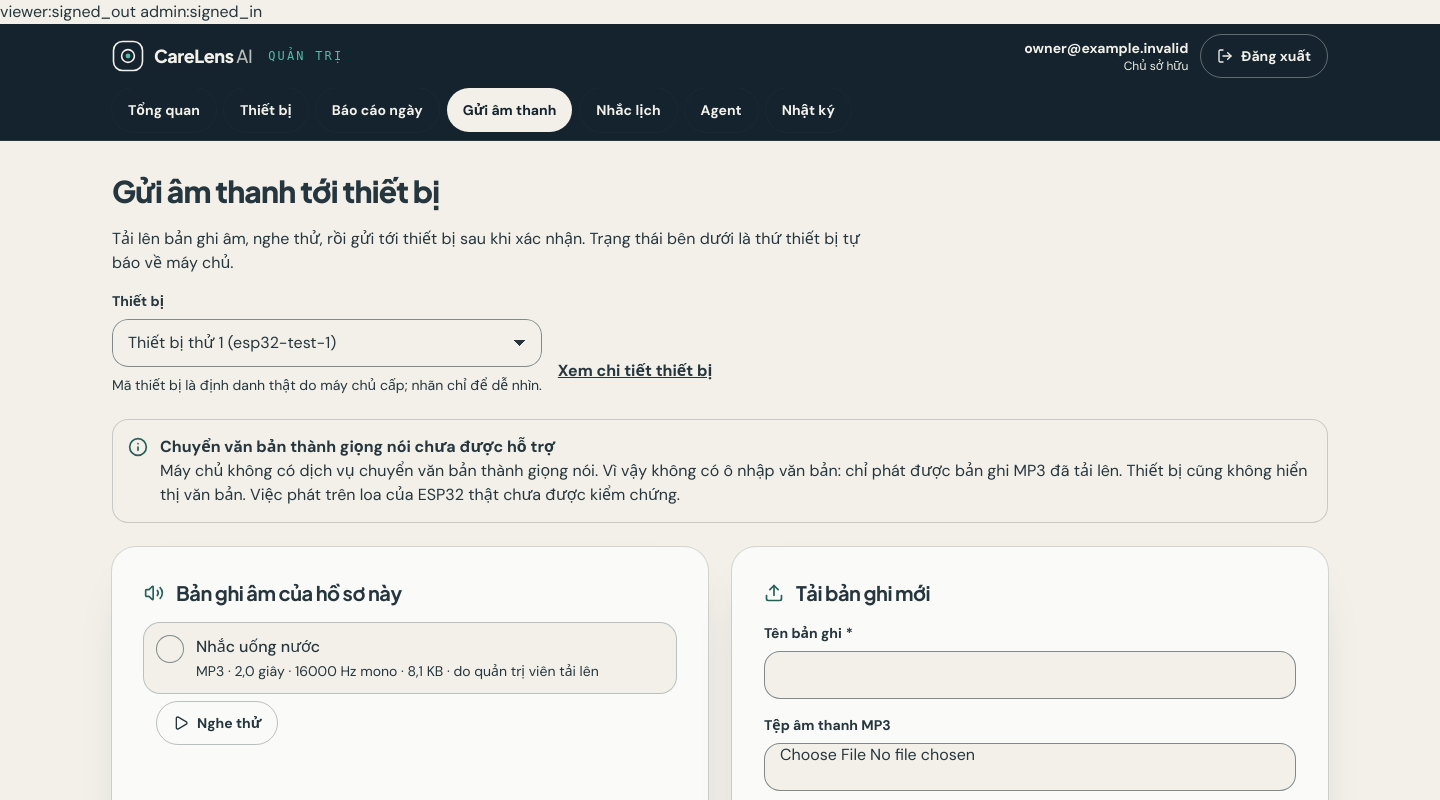
Scenario: audio messages › sends nothing until the final confirmation, then sends exactly one command with the confirm flag and an idempotency key
Step 1. Click the radio button labelled "Nhắc uống nước" → x=258, y=646, box top-left (144, 622), bottom-right (676, 692)
(page scrolled)
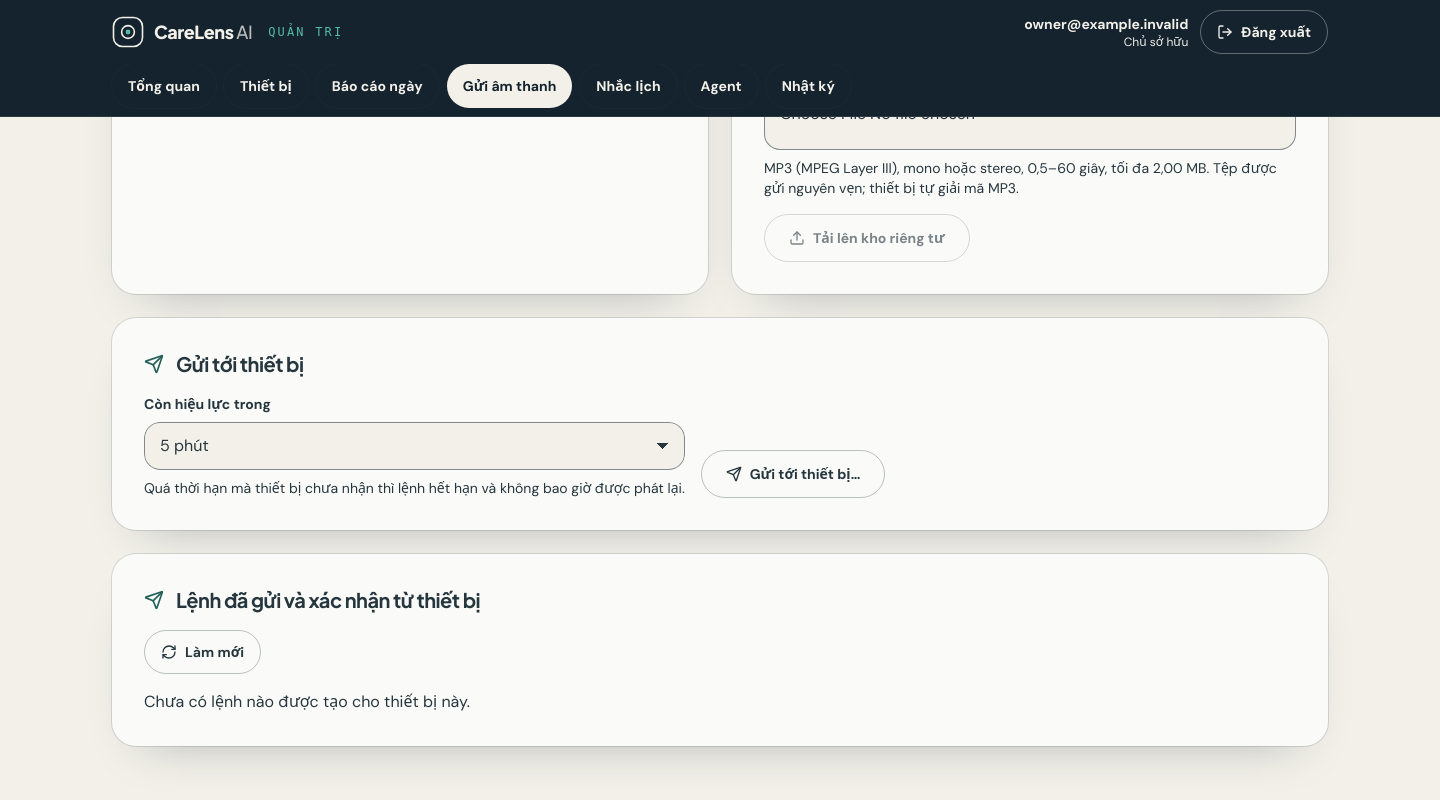
Step 2. Select "15 phút" in the dropdown labelled "Còn hiệu lực trong" → x=414, y=446, box top-left (144, 422), bottom-right (685, 470)
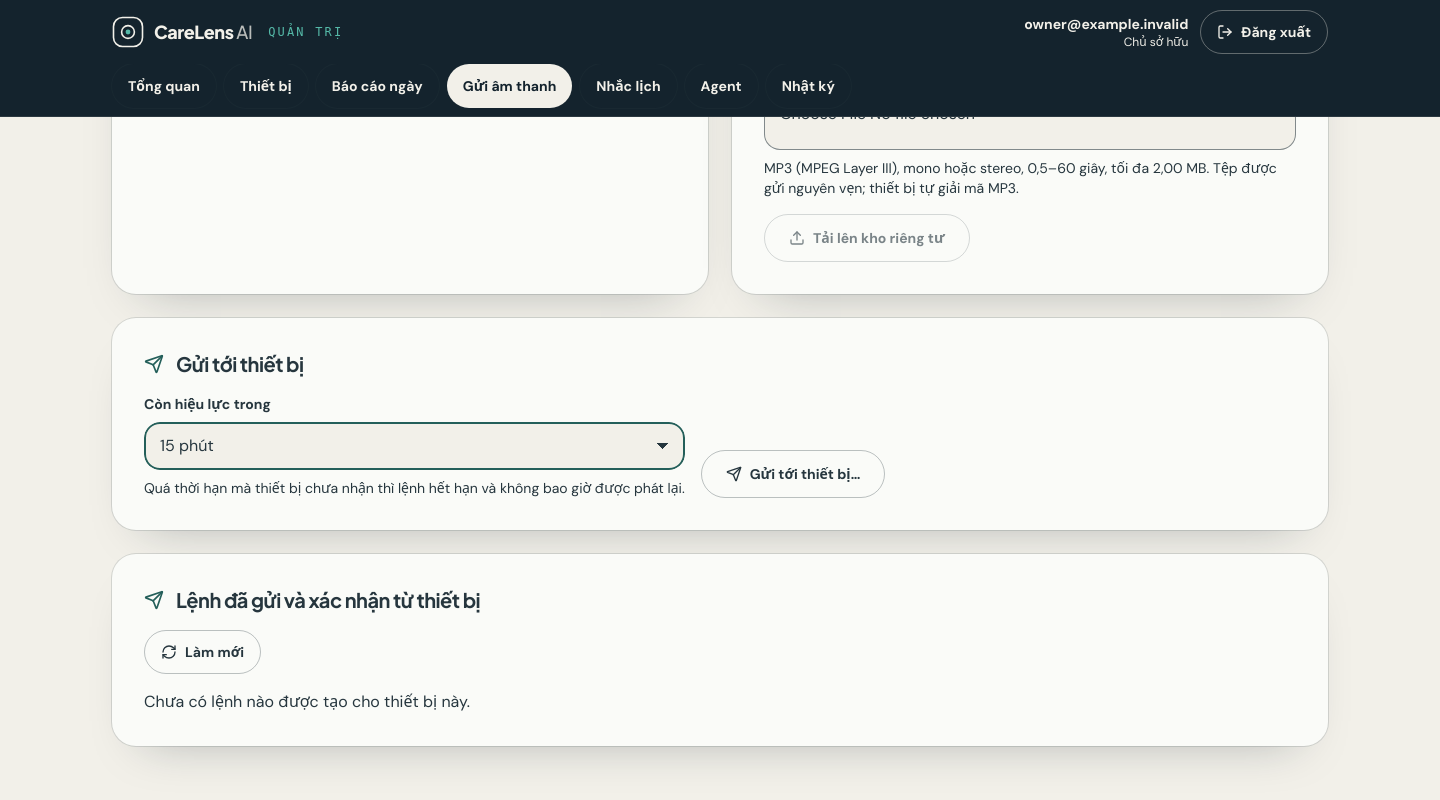
Step 3. Click the button "Gửi tới thiết bị…" → x=793, y=474, box top-left (701, 450), bottom-right (885, 498)
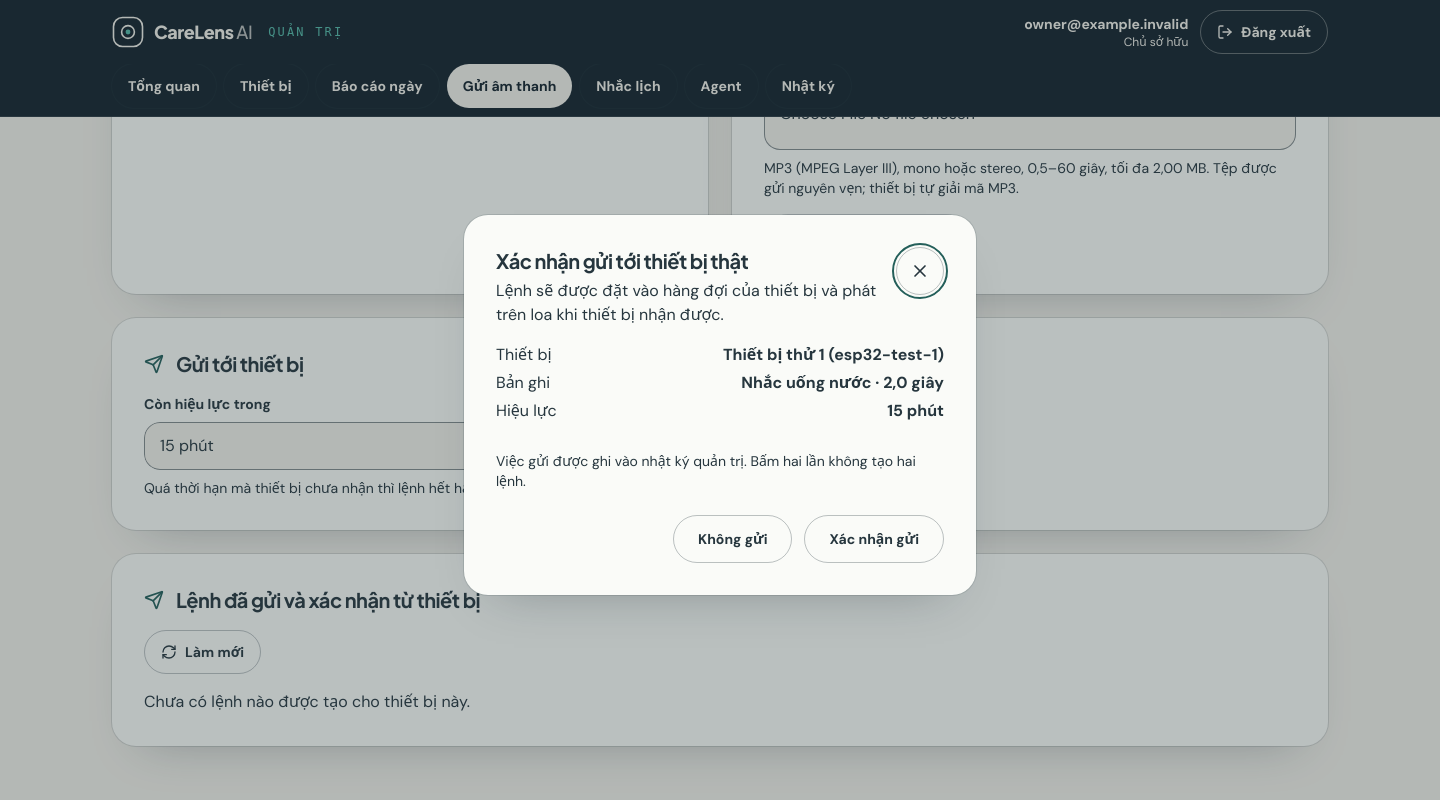
expect the text "Thiết bị thử 1 (esp32-test-1)" is shown: met, box top-left (723, 343), bottom-right (944, 367)
Step 4. Click the button "Không gửi" → x=733, y=539, box top-left (673, 515), bottom-right (792, 563)
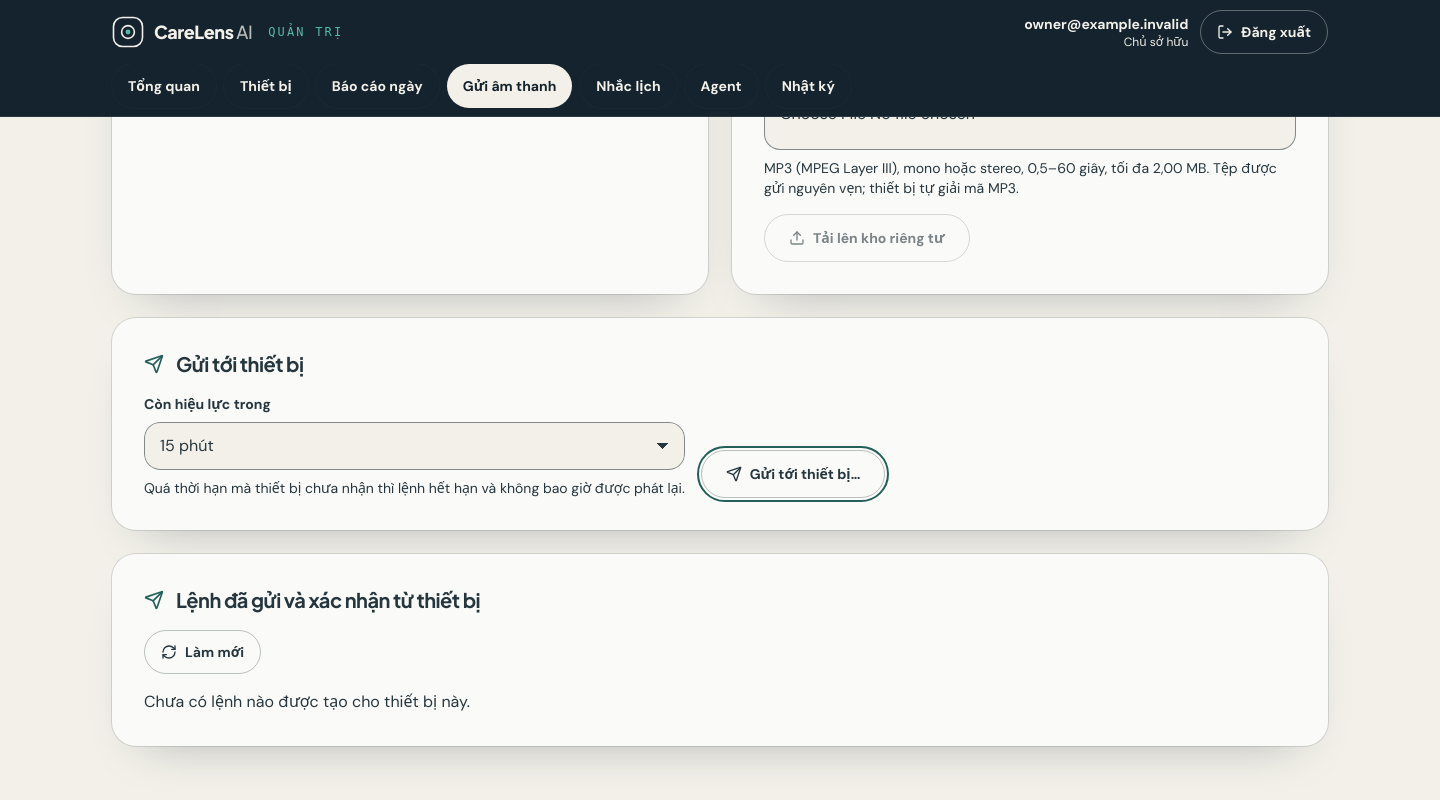
Step 5. Click the button "Gửi tới thiết bị…" → x=793, y=474, box top-left (701, 450), bottom-right (885, 498)
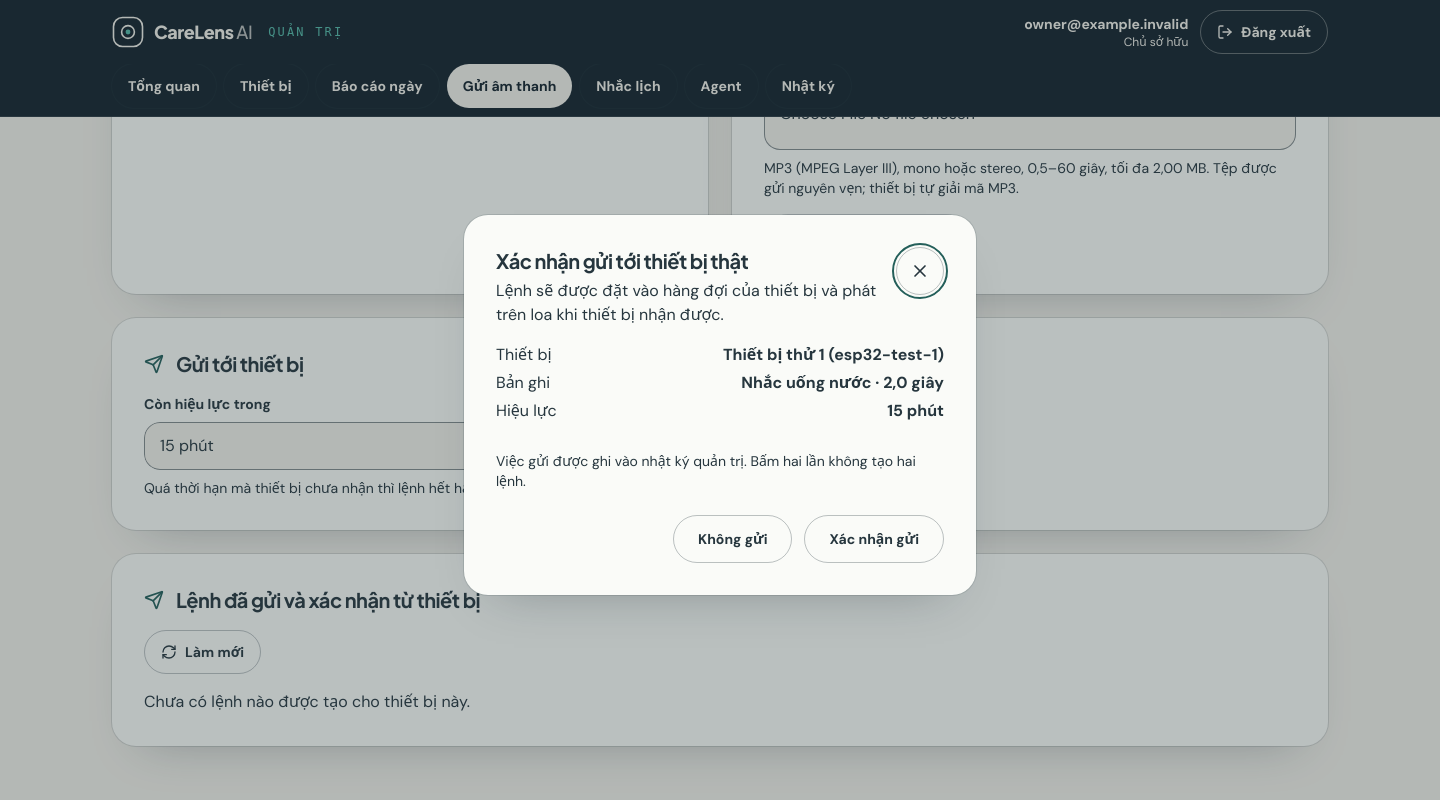
Step 6. Click the button "Xác nhận gửi" → x=874, y=539, box top-left (804, 515), bottom-right (944, 563)
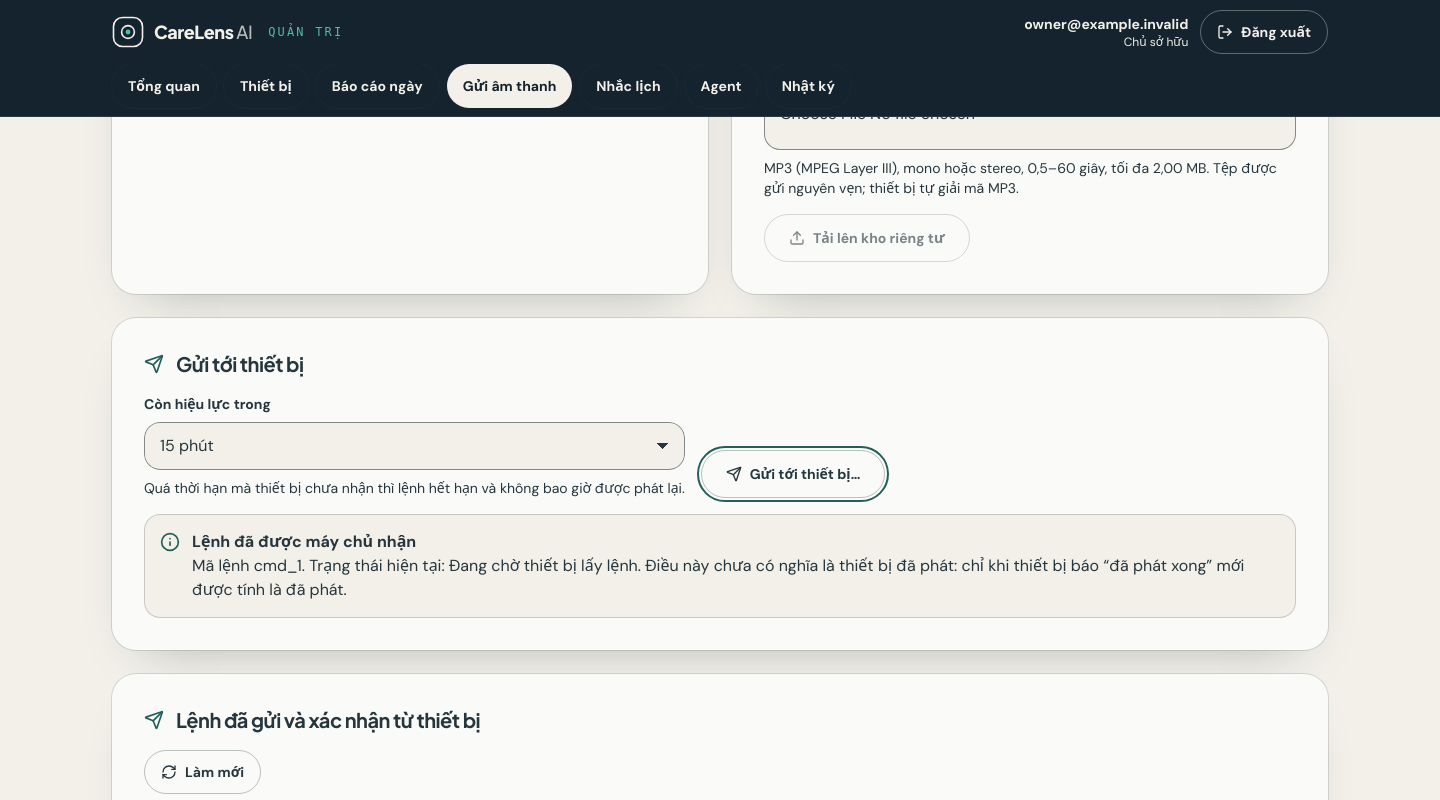
expect the text "Lệnh đã được máy chủ nhận" is shown: met, box top-left (192, 530), bottom-right (416, 552)
expect the text "chưa có nghĩa là thiết bị đã phát" is shown: met, box top-left (192, 554), bottom-right (1244, 600)
